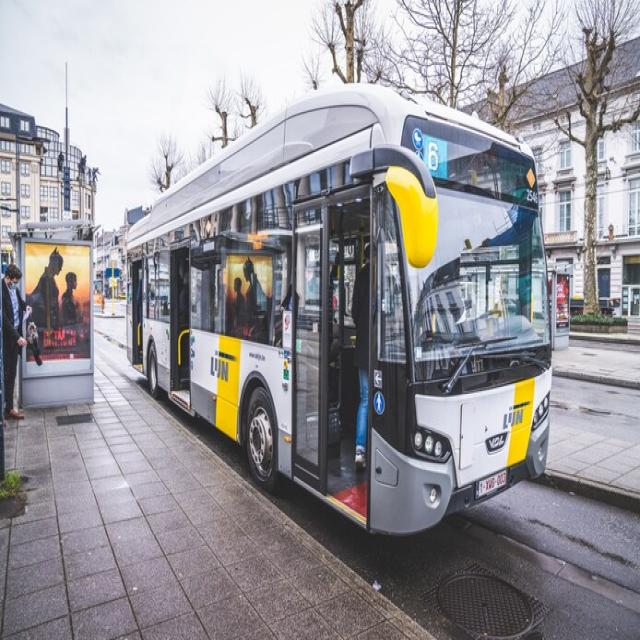bus-number: (425, 136, 448, 179)
